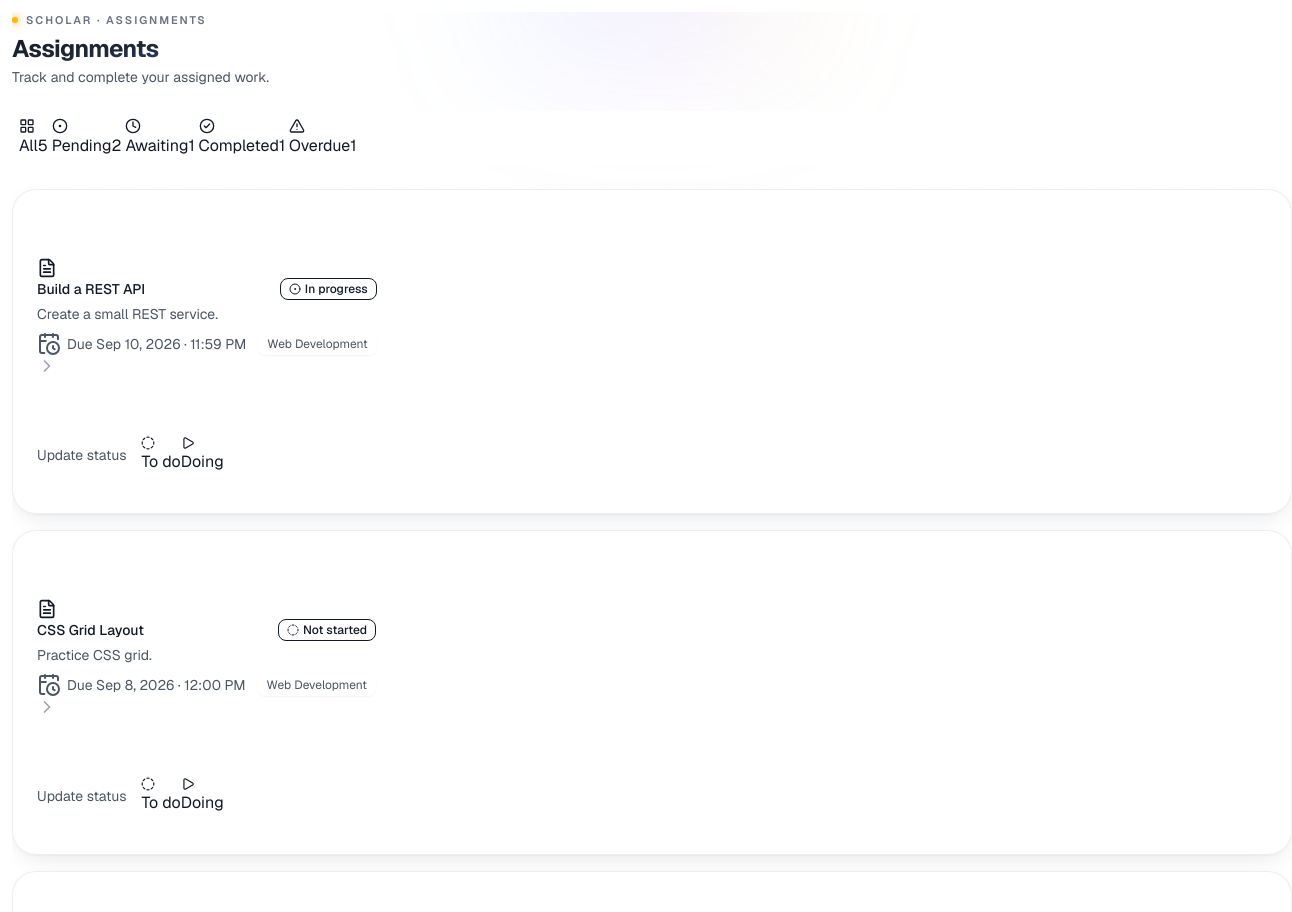
Scenario: AssignmentsView › shows filtered-empty when no tasks match a filter
Step 1. Click the tab "Completed1" → (242, 138), box top-left (199, 118), bottom-right (285, 158)
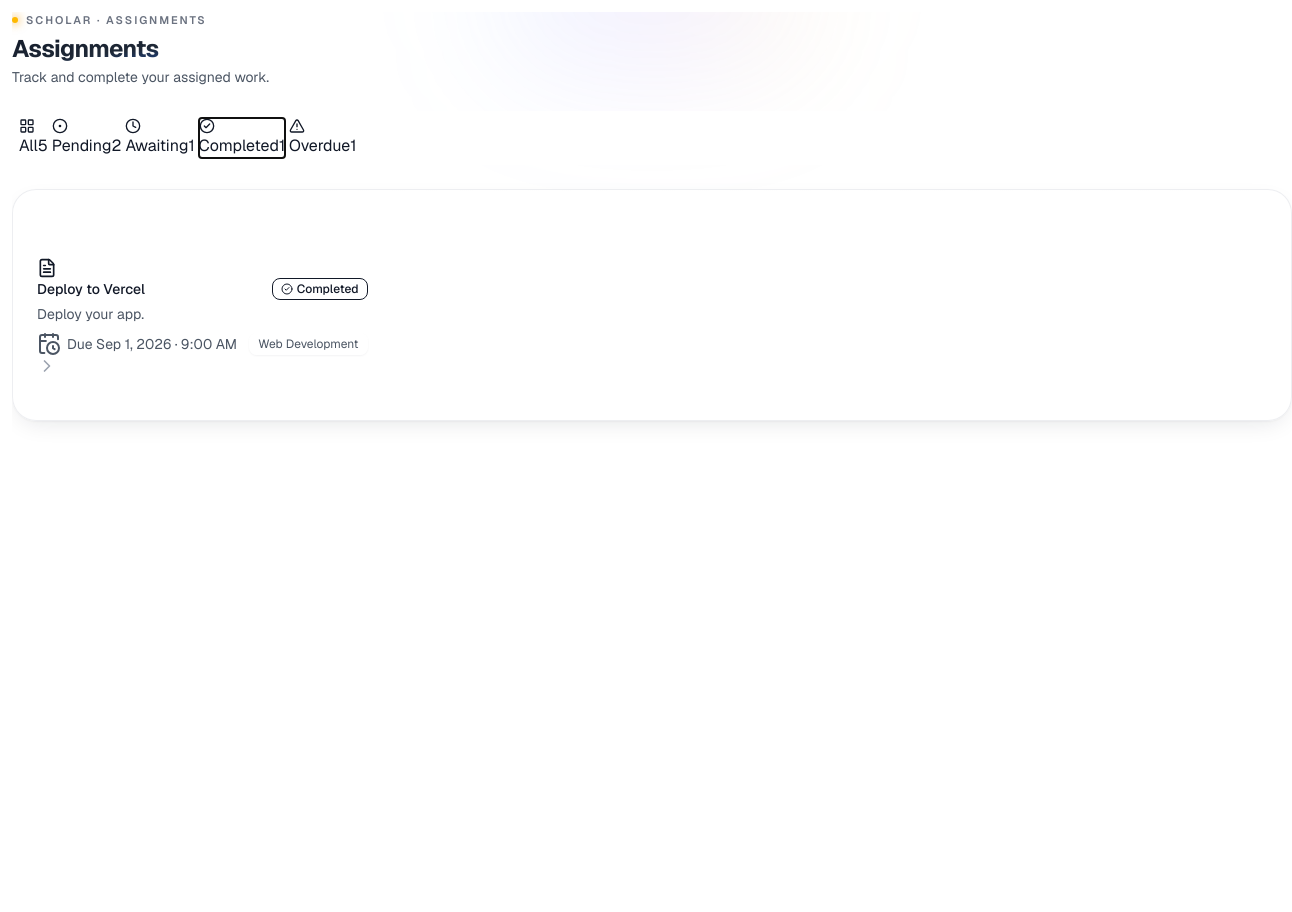
Expected: the text "Deploy to Vercel" is shown, top-left (37, 278), bottom-right (145, 298)
Step 2. Click the tab "Overdue1" → (323, 138), box top-left (289, 118), bottom-right (356, 158)
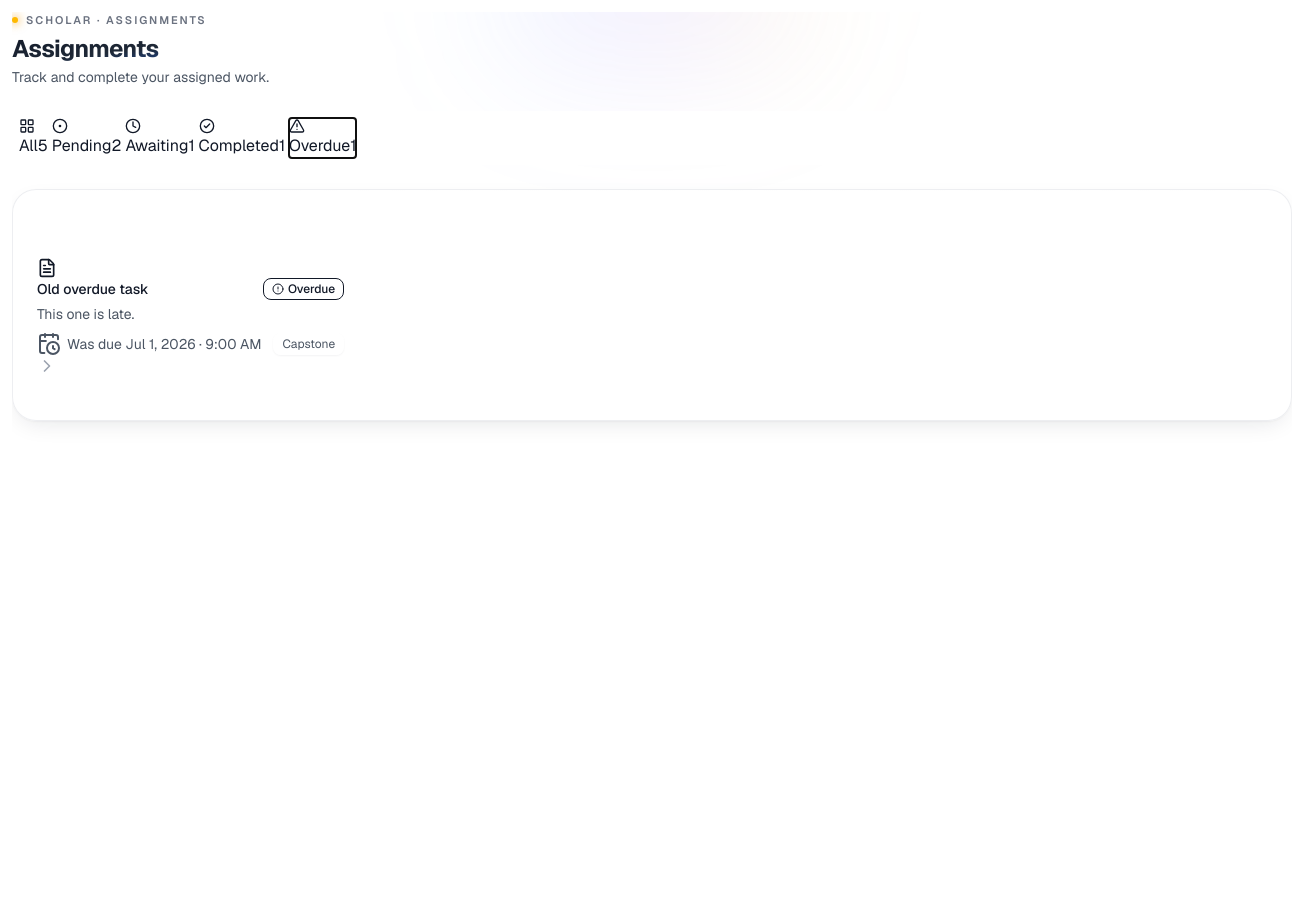
Expected: the text "Old overdue task" is shown, top-left (37, 278), bottom-right (149, 298)
